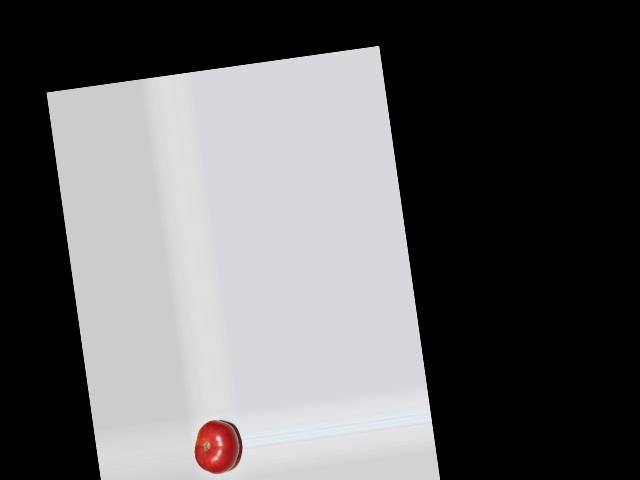tomato: (190, 417, 242, 477)
